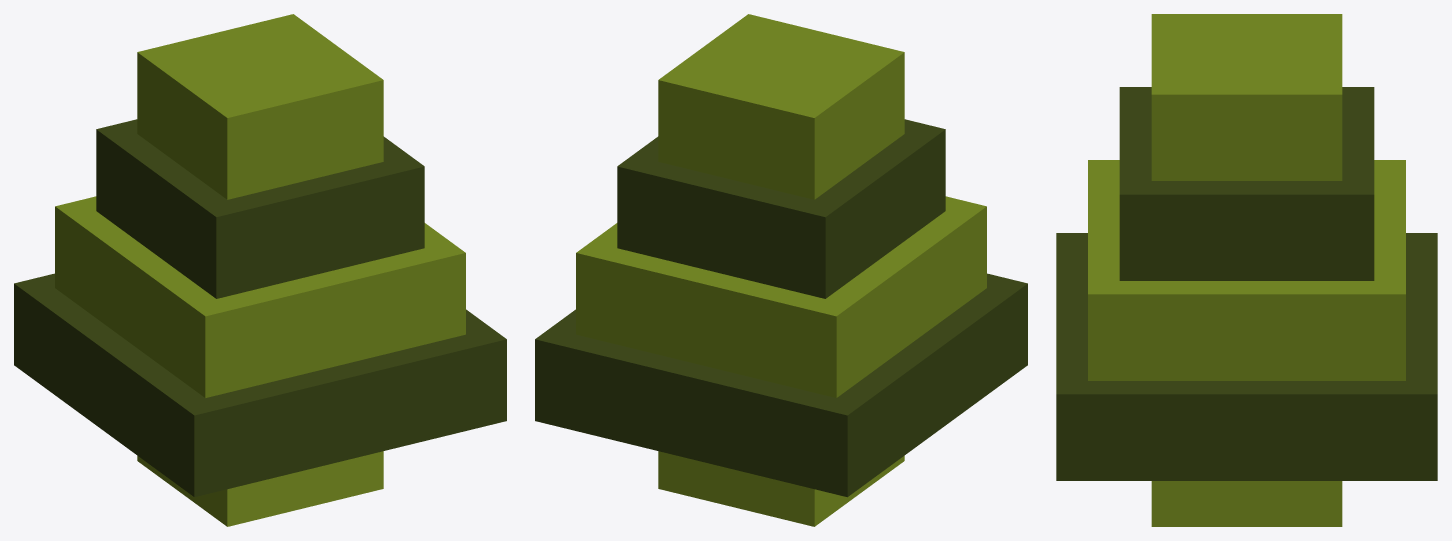
The model's file is TallTree.obj.
3 views of the same model, side by side, from view 1: azimuth 30°, elevation 25°; view 2: azimuth 150°, elevation 25°; view 3: azimuth 270°, elevation 25° (orthographic). The views are drawn at different scales.
Bounding box in the file's own units: 12 × 15 × 12.
Materials: 1 (1 with a texture image).
